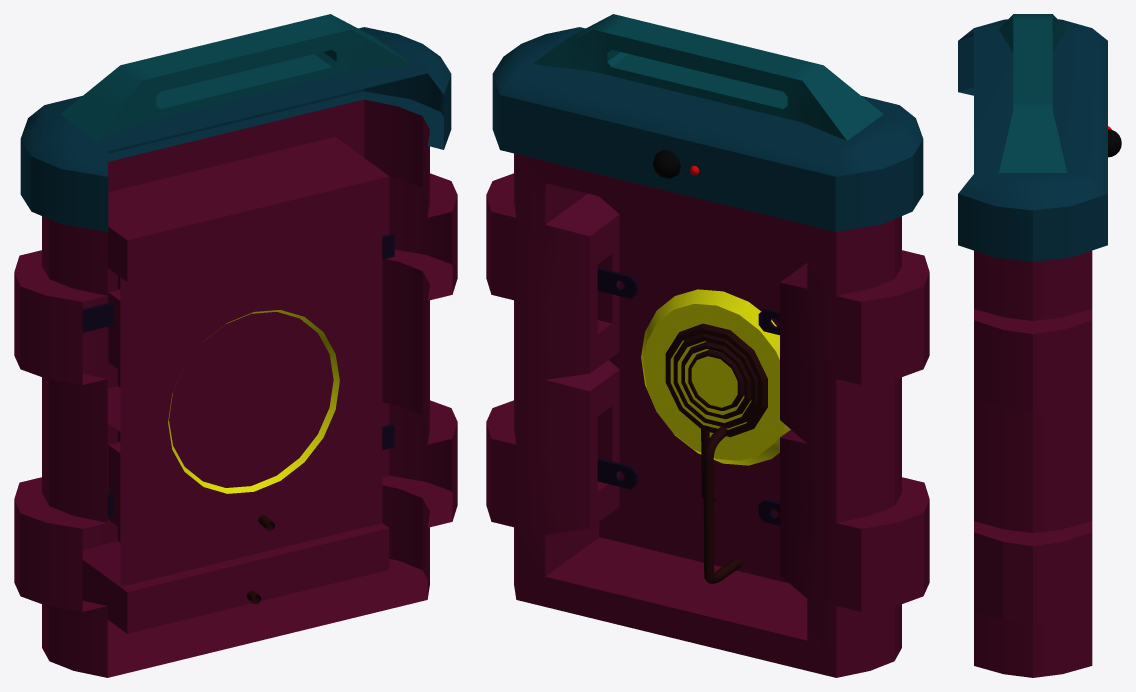
Rendered from Charger.fbx.
3 renders of one model, left to right at view 1: azimuth 30°, elevation 25°; view 2: azimuth 150°, elevation 25°; view 3: azimuth 270°, elevation 25°, orthographic. The views are drawn at different scales.
Parts seen in each view (by area): view 1: Charger; view 2: Charger; view 3: Charger.
Part boxes in pixels (<box>): Charger: <box>14,14,457,677</box>; Charger: <box>486,14,929,677</box>; Charger: <box>958,14,1121,677</box>.
Bounding box in the file's own units: 42.16 × 14.84 × 53.13.
